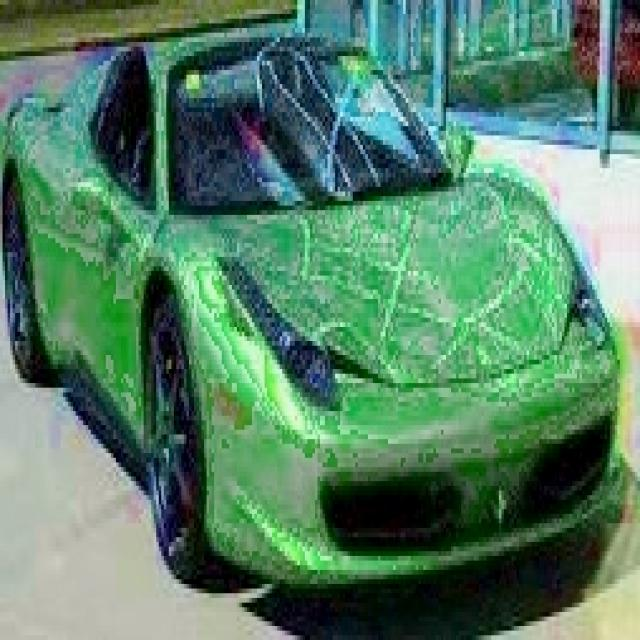green: (0, 28, 623, 602)
